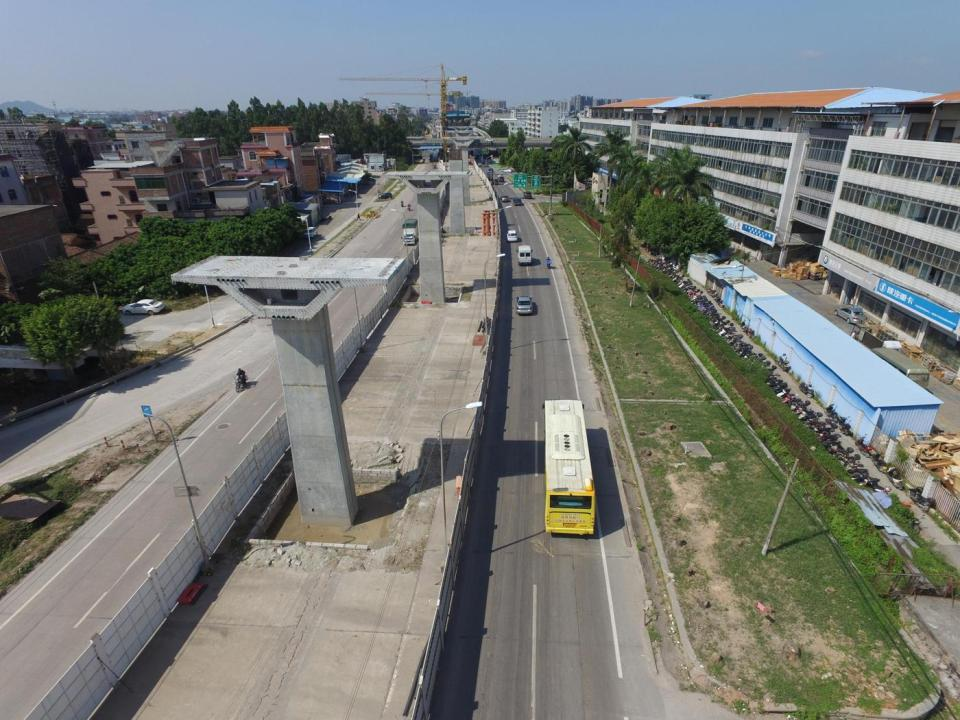bus: (543, 400, 595, 540), (872, 347, 929, 388)
car: (123, 300, 164, 316), (835, 307, 868, 324), (515, 296, 532, 314), (305, 226, 318, 238), (513, 198, 522, 206), (524, 191, 532, 199), (500, 196, 508, 202), (503, 168, 512, 173), (497, 177, 505, 182), (492, 179, 498, 184)
truck: (852, 324, 906, 364), (401, 219, 419, 245), (487, 171, 493, 180)
van: (516, 246, 533, 266), (506, 230, 518, 241), (378, 193, 393, 199)
